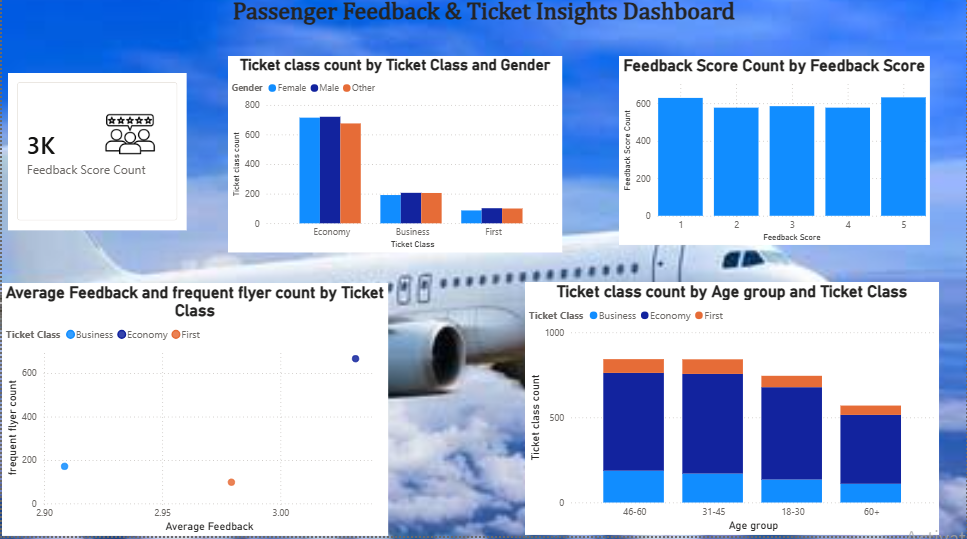

What the dashboard file says about the page in this screenshot:
{"tool":"powerbi","page":{"name":"Page 3","canvas":[1280,720],"ordinal":2},"visuals":[{"type":"cardVisual","fields":{"Data":["Airline_Airports.feedback score count"]},"box":[8.8,103.8,237.5,215],"z":0},{"type":"columnChart","fields":{"Category":["Airline_Passengers.Feedback Score"],"Y":["Airline_Airports.feedback score count"]},"box":[820,82.5,412.5,251.2],"z":1000},{"type":"clusteredColumnChart","fields":{"Category":["Airline_Passengers.Ticket Class"],"Y":["Airline_Passengers.Ticket class count"],"Series":["Airline_Passengers.Gender"]},"box":[300,82.5,443.8,261.2],"z":2000},{"type":"columnChart","fields":{"Y":["Airline_Passengers.Ticket class count"],"Series":["Airline_Passengers.Ticket Class"],"Category":["Airline_Passengers.Age group"]},"box":[695,382.5,550,336.2],"z":3000},{"type":"scatterChart","fields":{"Y":["Airline_Airports.frequent flyer count"],"X":["Airline_Airports.Average Feedback"],"Series":["Airline_Passengers.Ticket Class"]},"box":[0,383.8,512.5,336.2],"z":4000},{"type":"textbox","box":[0,0,1280,82.5],"z":5000},{"type":"image","box":[110,148.8,120,75],"z":6000}]}

Visuals, with their boxes in screenshot pixels (x1, y1, x2, y2), scaled from the page's 1280x720 canvas onto the 967x539 screenshot:
cardVisual - Airline_Airports.feedback score count: {"left": 7, "top": 78, "right": 186, "bottom": 239}
columnChart - Airline_Passengers.Feedback Score x Airline_Airports.feedback score count: {"left": 619, "top": 62, "right": 931, "bottom": 250}
clusteredColumnChart - Airline_Passengers.Ticket Class x Airline_Passengers.Ticket class count: {"left": 227, "top": 62, "right": 562, "bottom": 257}
columnChart - Airline_Passengers.Ticket class count x Airline_Passengers.Ticket Class: {"left": 525, "top": 286, "right": 941, "bottom": 538}
scatterChart - Airline_Airports.frequent flyer count x Airline_Airports.Average Feedback: {"left": 0, "top": 287, "right": 387, "bottom": 538}
textbox: {"left": 0, "top": 0, "right": 966, "bottom": 62}
image: {"left": 83, "top": 111, "right": 174, "bottom": 168}
